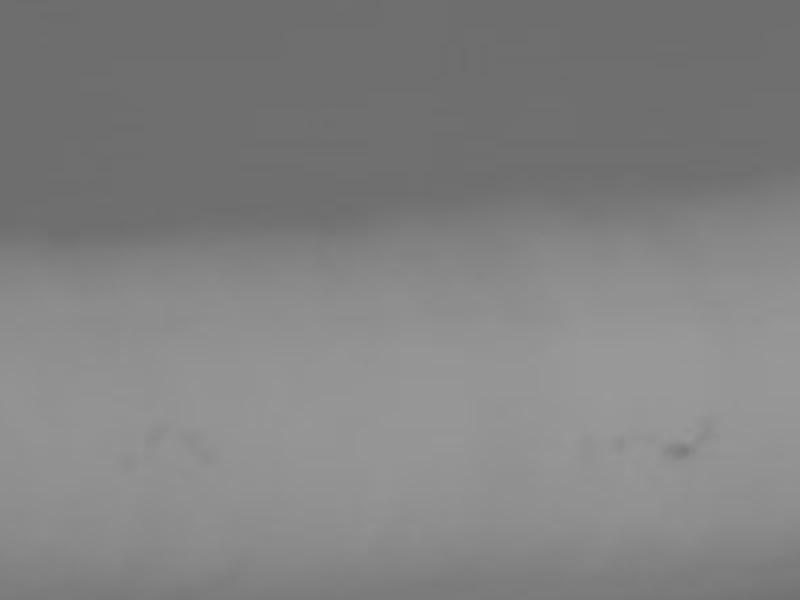defect: (665, 441, 693, 459)
